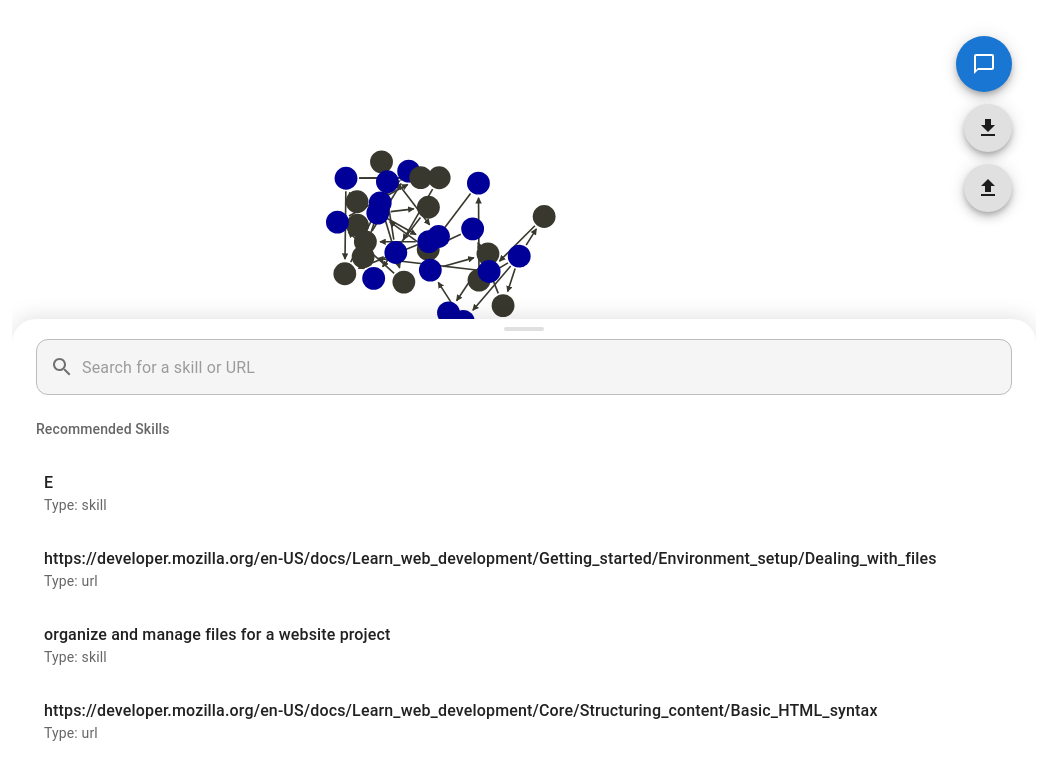
Test: Search Page Text Results Display › If there are no results, the user is informed
Step 1. Click the field with placeholder "Search for a skill or URL" → (547, 367), box [82, 339, 1012, 395]
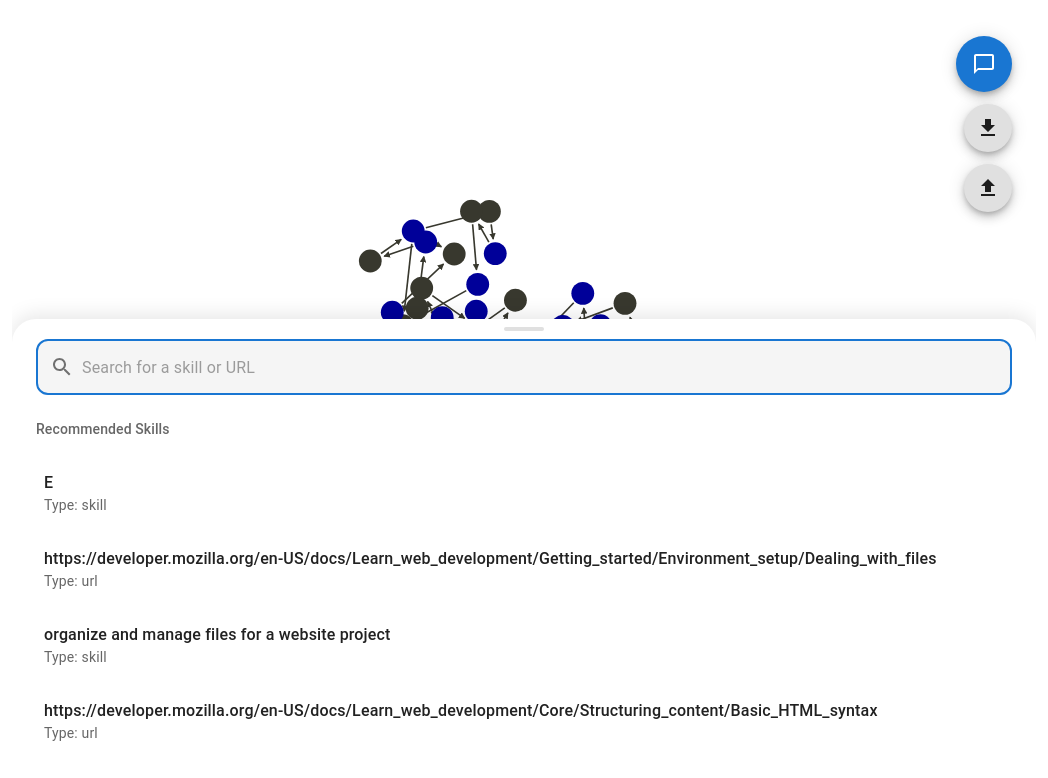
Step 2. Type keys "xyzabc123"
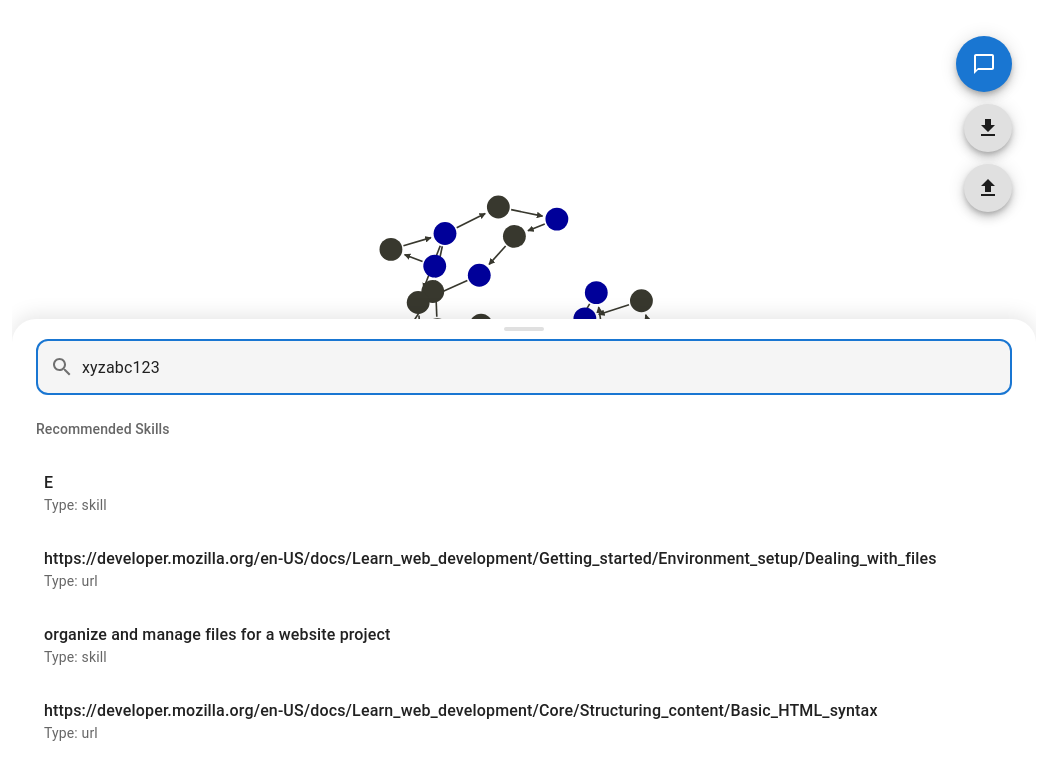
Step 3. Press Enter
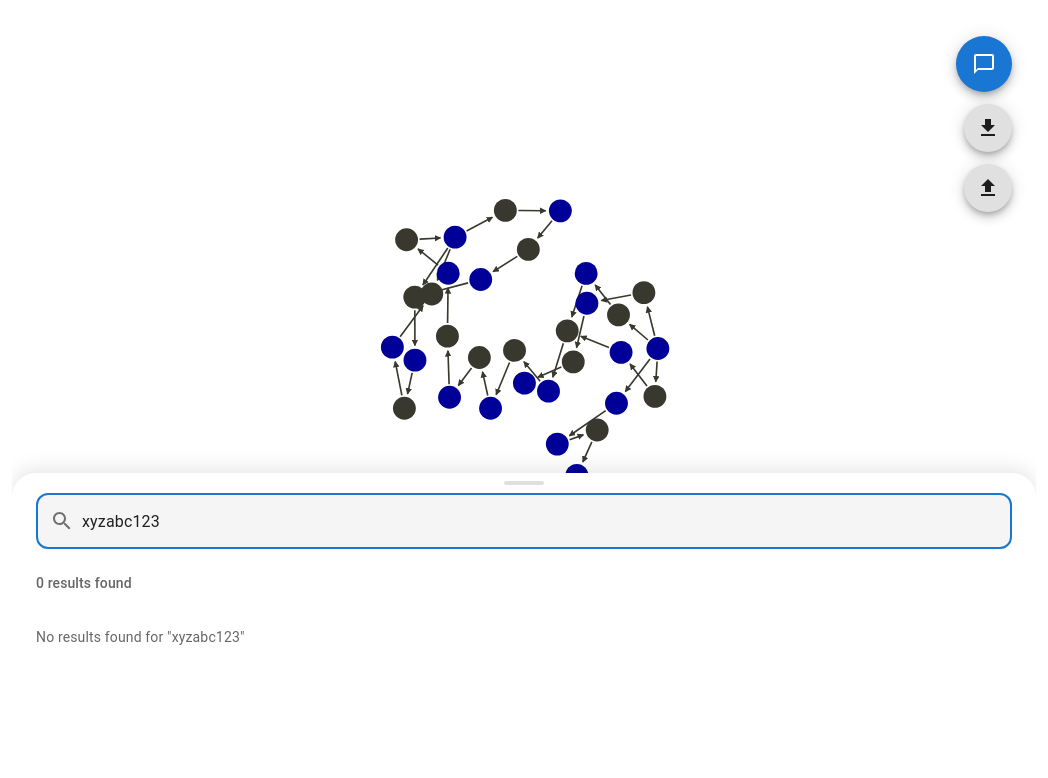
Expected: the text "No results found for \"xyzabc123\"" is shown, [36, 629, 245, 645]
